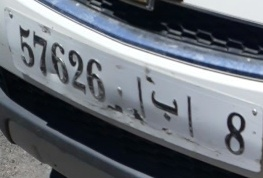2: (66, 48, 87, 94)
5: (16, 22, 35, 70)
6: (85, 57, 108, 102), (50, 42, 68, 84)
7: (33, 33, 49, 74)
8: (221, 110, 247, 157)
b: (149, 87, 182, 124)
